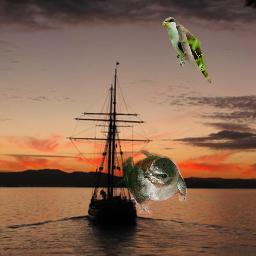Cuckoo: (159, 17, 214, 83)
Swallow: (113, 150, 187, 217)
